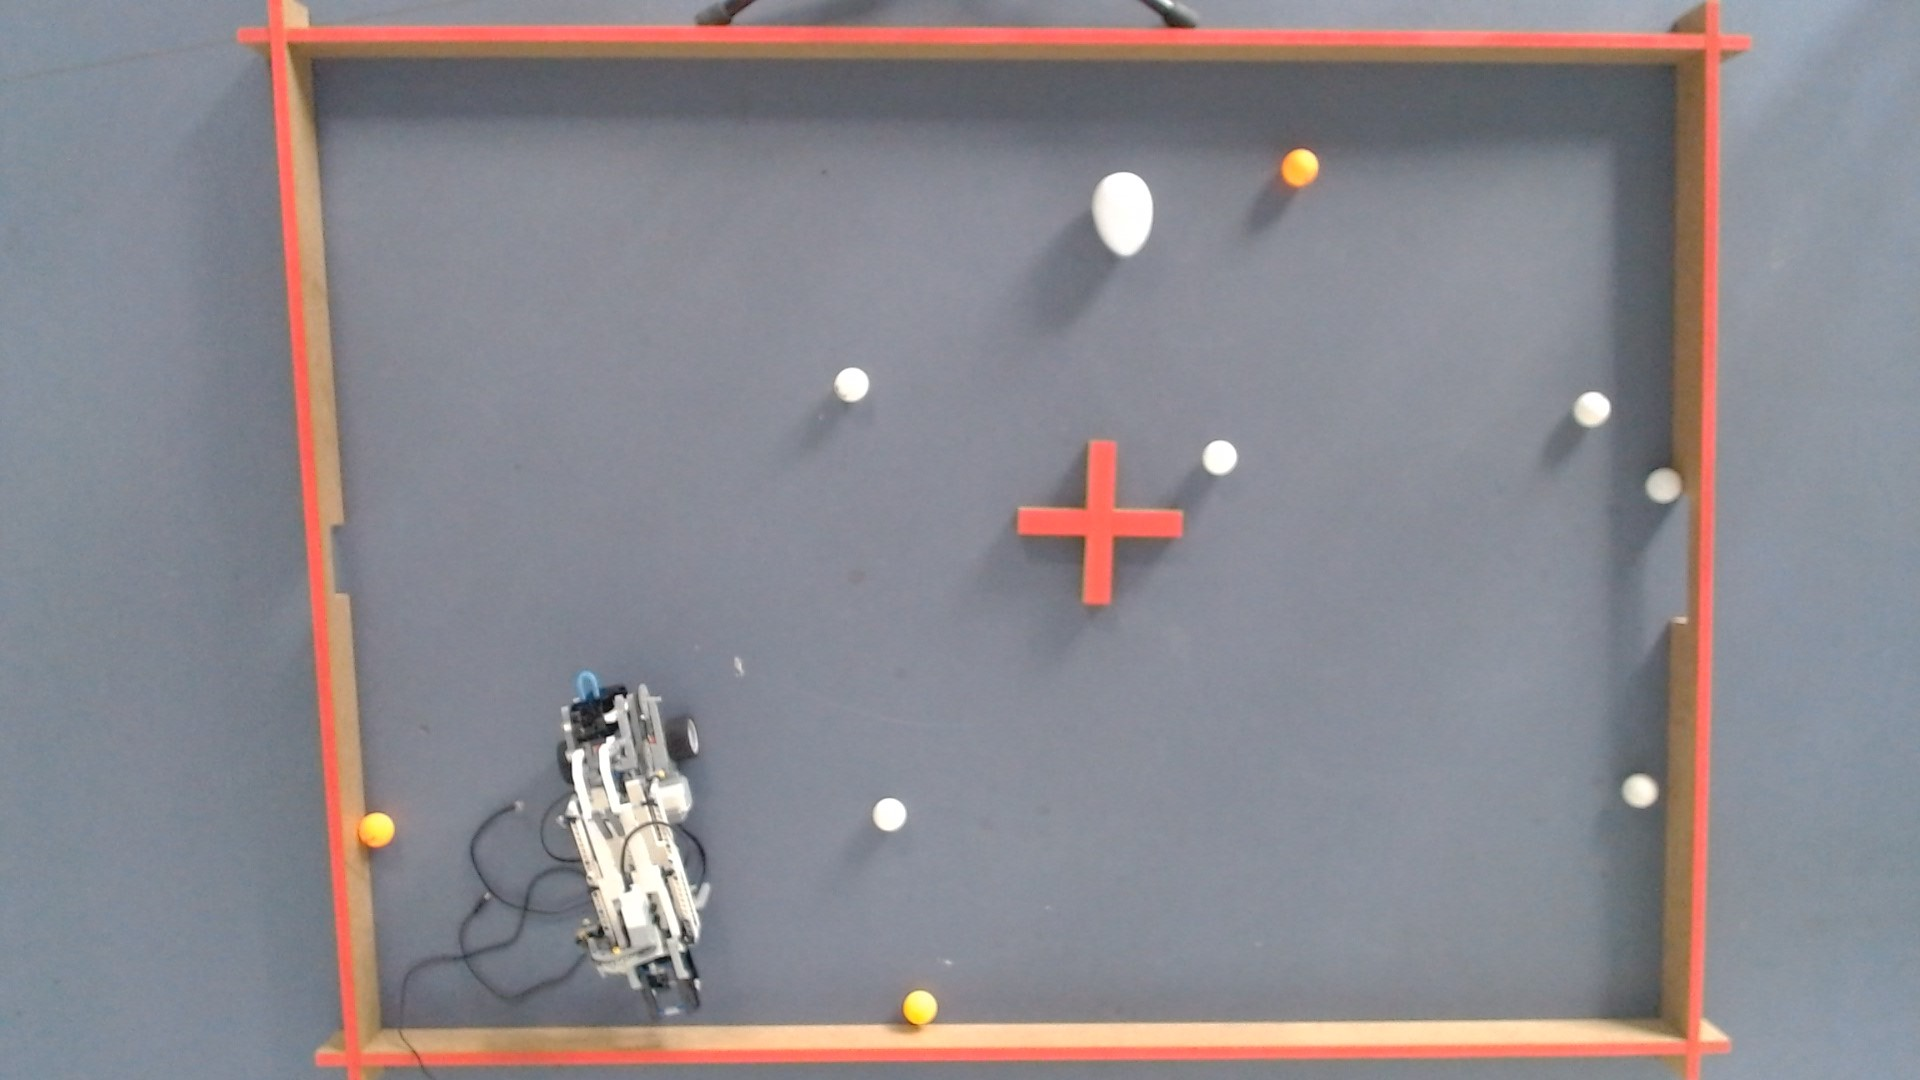Opingpong: (351, 802, 404, 858), (1275, 138, 1324, 195), (895, 984, 942, 1034)
Wpingpong: (1634, 462, 1695, 516), (1565, 380, 1621, 435), (1613, 767, 1669, 818), (829, 357, 877, 411), (1193, 433, 1244, 483), (862, 793, 916, 836)
arena: (223, 7, 421, 1080), (251, 986, 1749, 1079), (1629, 3, 1756, 1080), (225, 12, 1793, 76)
car: (533, 665, 736, 1021)
cross: (1006, 421, 1193, 625)
egg: (1084, 157, 1162, 266)
